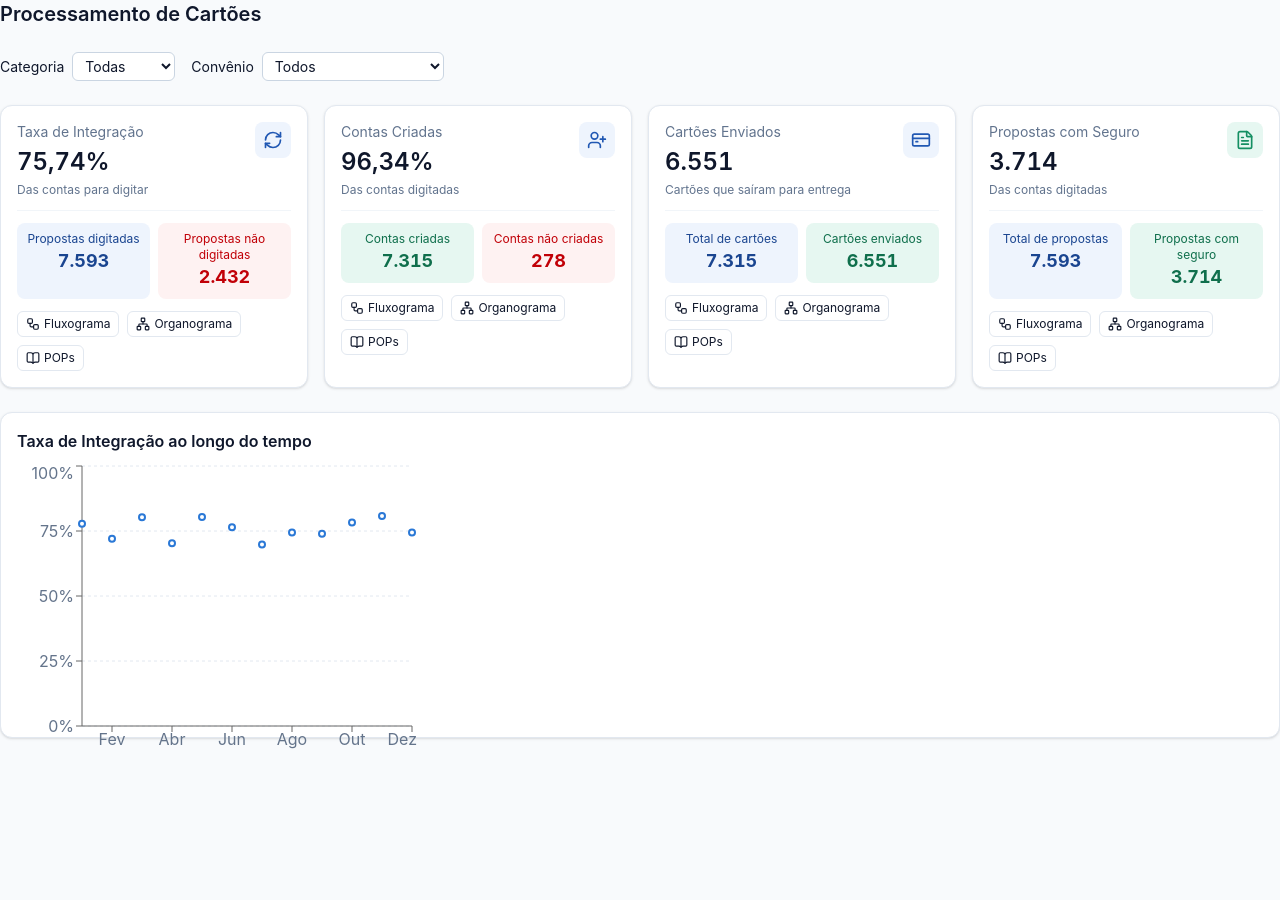
Test case: CardProcessingPage › opens a workflow view, loading it lazily
Click the button with aria-label "Fluxograma: Taxa de Integração" at x=68, y=324, box x1=17 y1=311 x2=119 y2=337
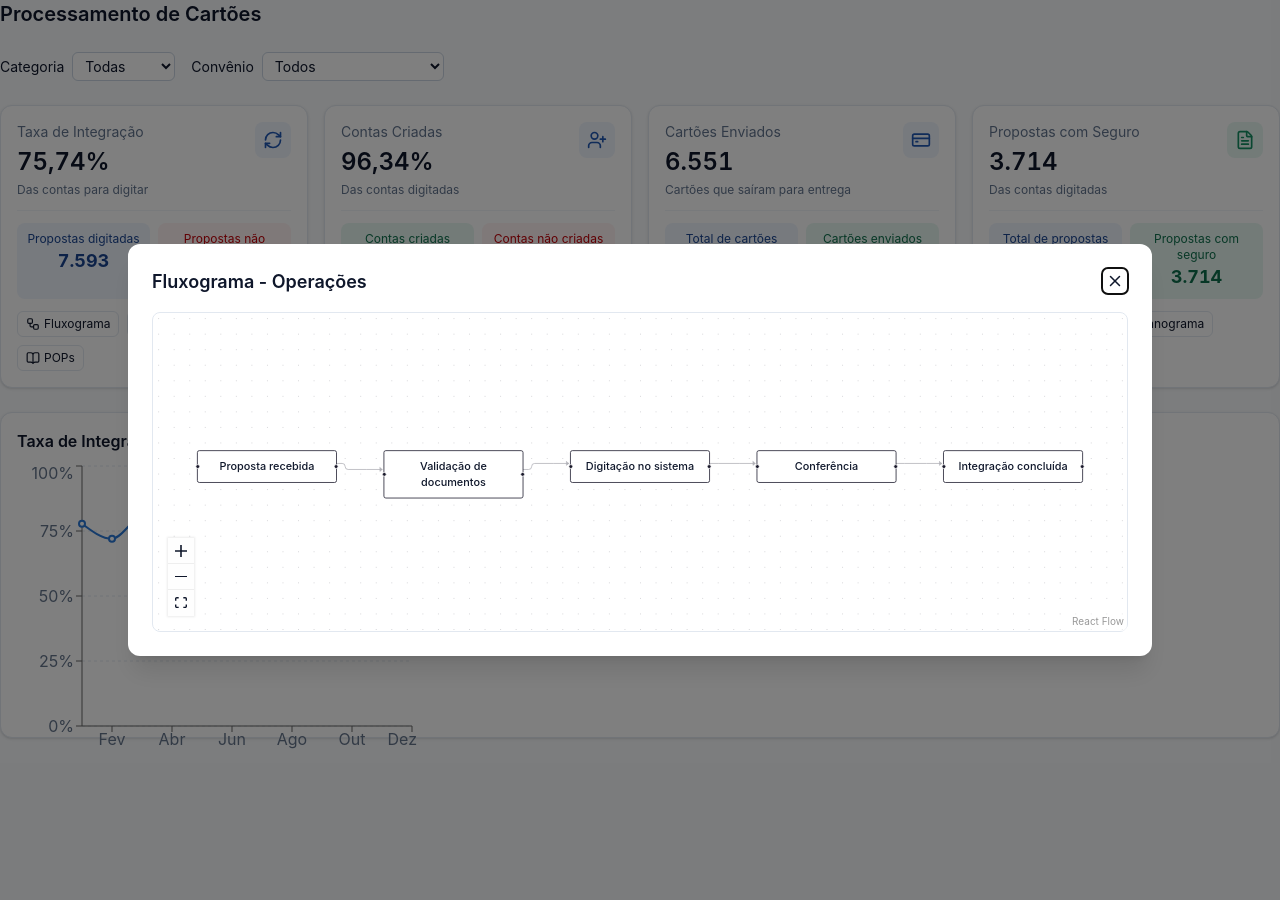
Expected: the text "Proposta recebida" is shown, x1=220 y1=460 x2=314 y2=473
